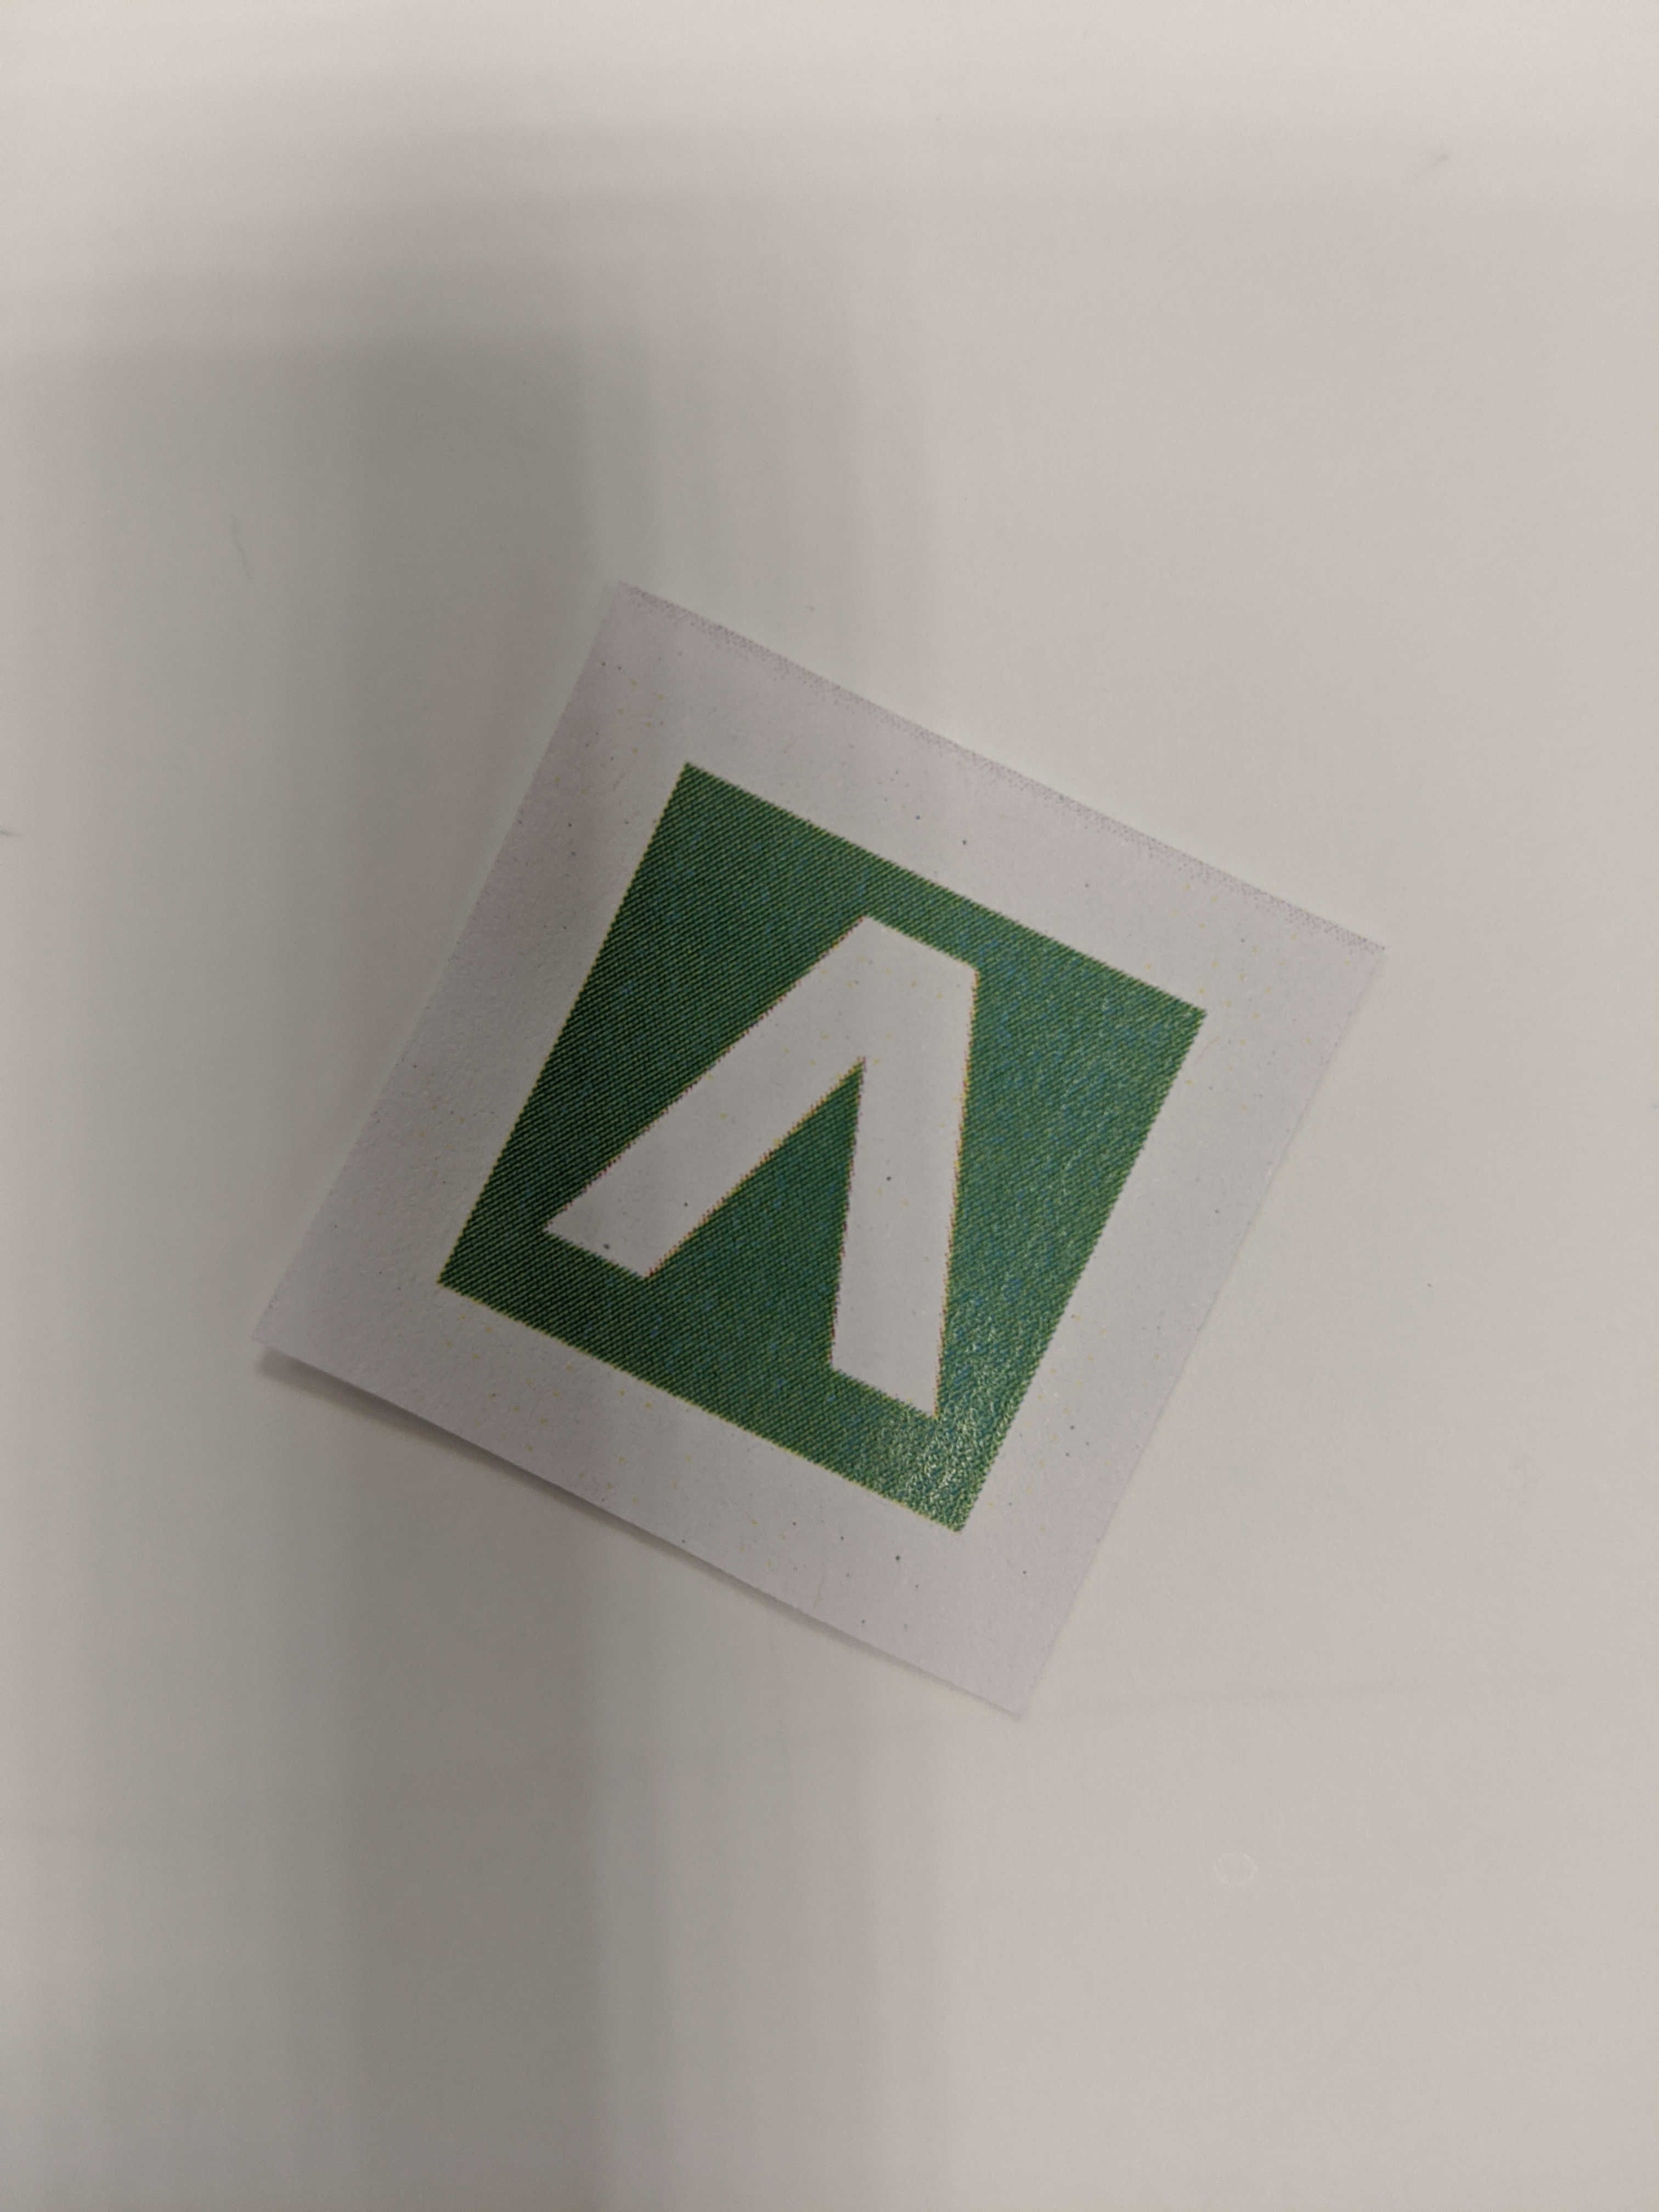green marker: (260, 575, 1371, 1712)
